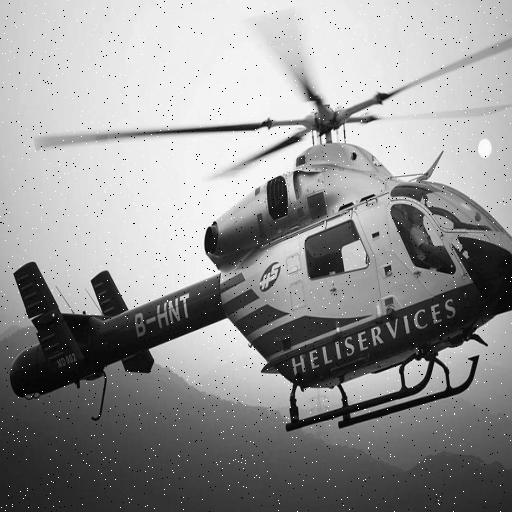helicopter: (7, 1, 512, 460)
